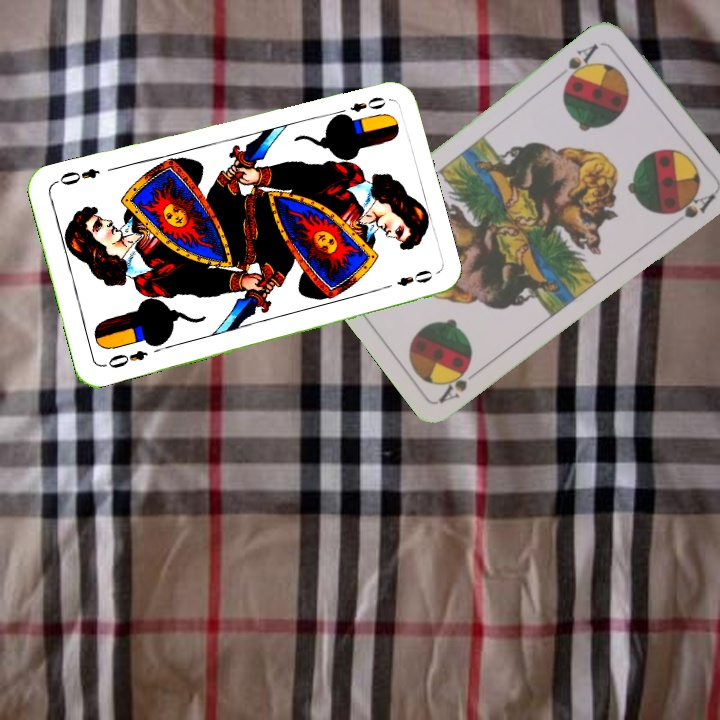EO: (332, 92, 389, 120), (99, 346, 150, 371)
SA: (435, 359, 486, 405), (561, 38, 601, 87)
